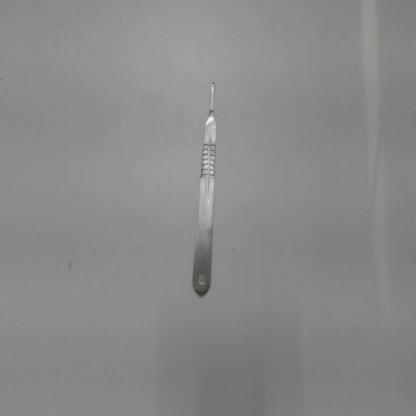No.3 BP Handle: (183, 77, 221, 300)
